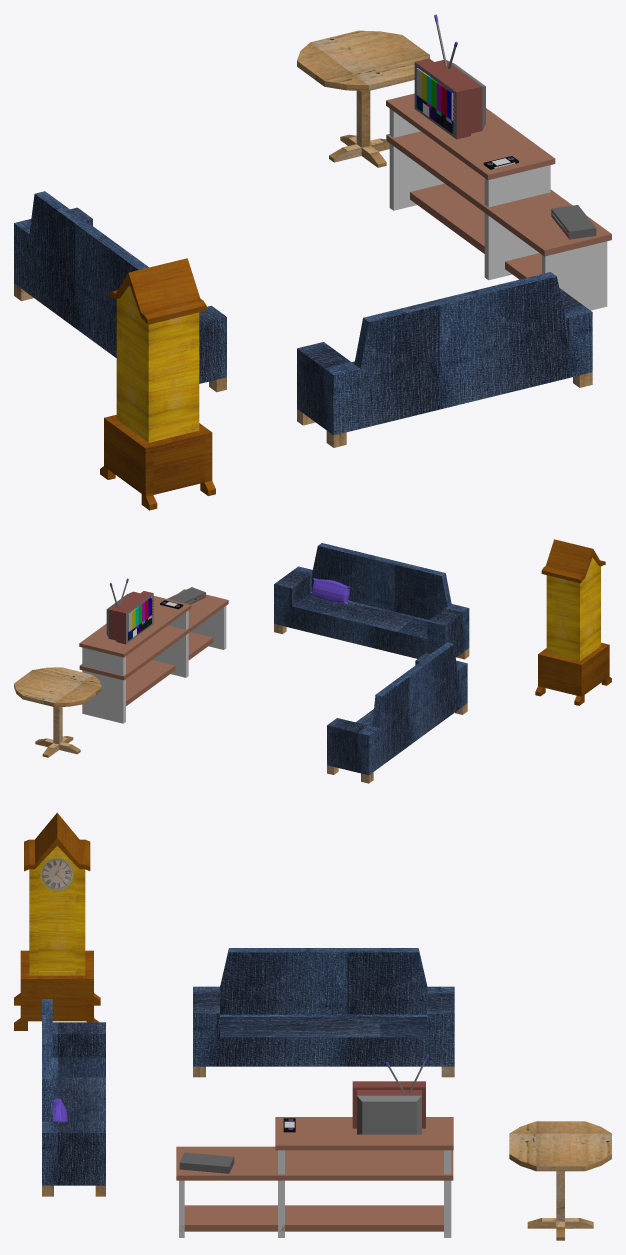
File: Itens_Sala_TV.fbx
3 renders of one model, top to bottom at view 1: azimuth 30°, elevation 25°; view 2: azimuth 150°, elevation 25°; view 3: azimuth 270°, elevation 25°, orthographic. The views are drawn at different scales.
Parts seen in each view (by area): view 1: Sofa.001, Rack, Relogio, Sofa, Mesa.001, TV_Antiga, Tela_TV_Antiga, Toca_Fitas; view 2: Sofa.001, Rack, Sofa, Relogio, Mesa.001, TV_Antiga, Traveseiro, Tela_TV_Antiga, Toca_Fitas; view 3: Sofa, Rack, Relogio, Sofa.001, Mesa.001, TV_Antiga, Toca_Fitas.
Boxes of the visible parts, x1,y1,x2,y2 form: Sofa.001: (297,272,592,447); Rack: (386,93,611,310); Relogio: (100,258,215,510); Sofa: (14,191,226,392); Mesa.001: (297,30,429,167); TV_Antiga: (414,14,485,139); Tela_TV_Antiga: (416,68,453,133); Toca_Fitas: (551,205,596,239); Sofa.001: (274,543,469,659); Rack: (79,589,228,723); Sofa: (327,642,467,783); Relogio: (535,539,611,705); Mesa.001: (14,667,101,757); TV_Antiga: (106,578,153,644); Traveseiro: (311,578,351,604); Tela_TV_Antiga: (128,597,151,640); Toca_Fitas: (167,587,205,604); Sofa: (193,948,454,1077); Rack: (176,1117,453,1237); Relogio: (14,812,100,1030); Sofa.001: (42,999,105,1196); Mesa.001: (509,1121,611,1240); TV_Antiga: (352,1054,428,1134); Toca_Fitas: (179,1152,234,1173).
Size of the model in its own units: 625 by 226 by 639.
